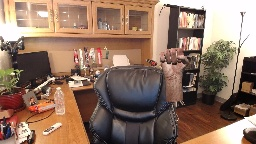Pugno: (158, 47, 189, 75)
